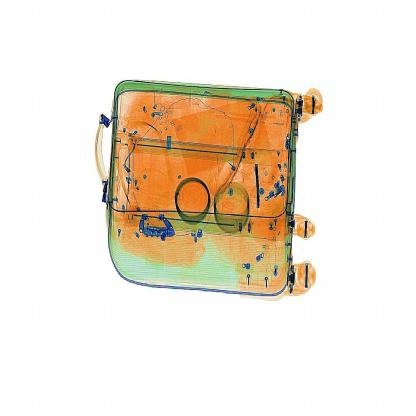knife: (252, 151, 276, 217)
